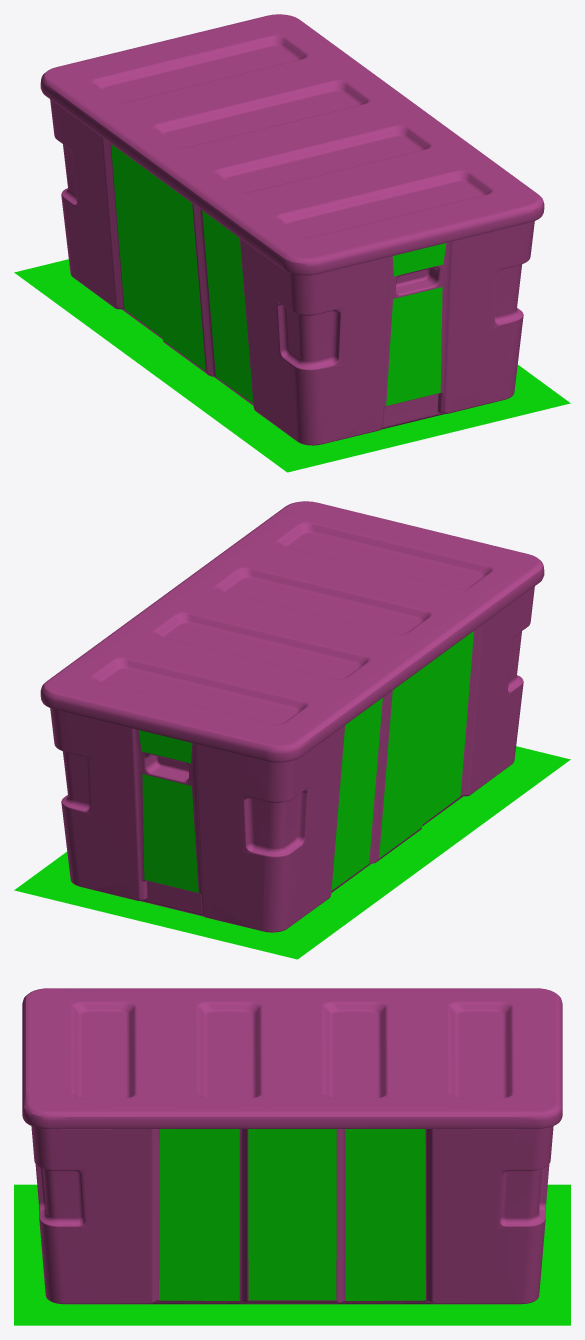
File: plastic_container.fbx
3 renders of one model, top to bottom at view 1: azimuth 30°, elevation 25°; view 2: azimuth 150°, elevation 25°; view 3: azimuth 270°, elevation 25°, orthographic.
Visible parts, largest first — view 1: plastic_container_lid, plastic_container_box, plastic_container_sticker_decal, plastic_container_shdw_decal; view 2: plastic_container_lid, plastic_container_box, plastic_container_sticker_decal, plastic_container_shdw_decal; view 3: plastic_container_lid, plastic_container_box, plastic_container_sticker_decal, plastic_container_shdw_decal.
Part boxes in pixels (<box>): plastic_container_lid: <box>40,14,544,275</box>; plastic_container_box: <box>50,99,534,445</box>; plastic_container_sticker_decal: <box>111,144,446,405</box>; plastic_container_shdw_decal: <box>14,259,570,472</box>; plastic_container_lid: <box>40,501,544,762</box>; plastic_container_box: <box>50,586,534,932</box>; plastic_container_sticker_decal: <box>138,631,473,892</box>; plastic_container_shdw_decal: <box>14,746,570,959</box>; plastic_container_lid: <box>22,988,562,1129</box>; plastic_container_box: <box>31,1126,553,1304</box>; plastic_container_sticker_decal: <box>159,1129,425,1300</box>; plastic_container_shdw_decal: <box>14,1184,570,1325</box>.
Bounding box in the file's own units: 93.72 × 63.65 × 156.
